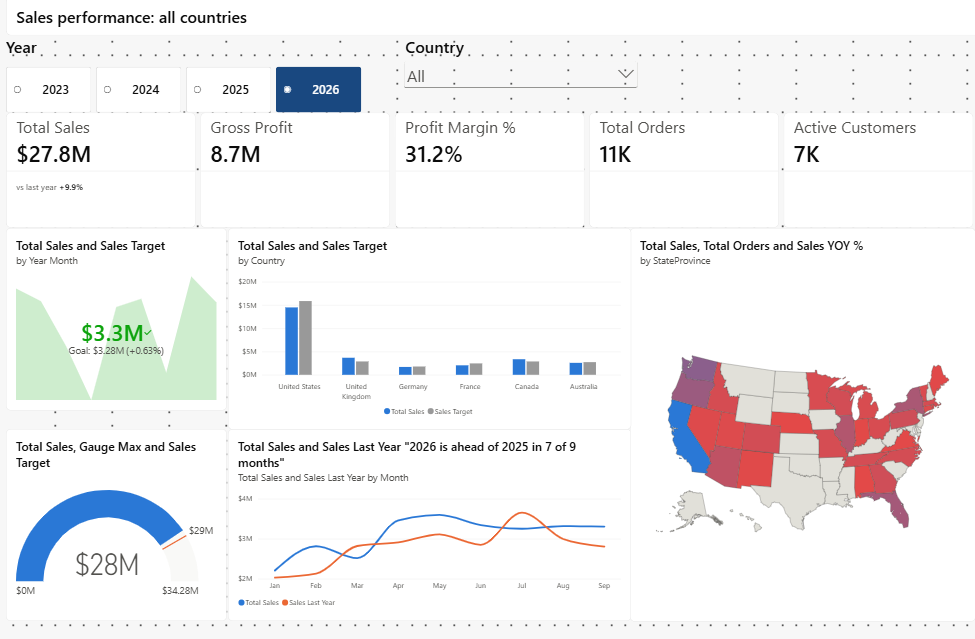

What the dashboard file says about the page in this screenshot:
{"tool":"powerbi","page":{"name":"Executive Overview","canvas":[1920,1080],"ordinal":0},"visuals":[{"type":"advancedSlicerVisual","fields":{"Values":["Date.Year"]},"box":[16,64,592,128],"z":0},{"type":"slicer","fields":{"Values":["Territories.Country"]},"box":[672,64,400,128],"z":1000},{"type":"cardVisual","fields":{"Data":["_Measures.Page Title"]},"box":[16,0,1904,64],"z":2000},{"type":"cardVisual","fields":{"Data":["_Measures.Total Sales","_Measures.Gross Profit","_Measures.Profit Margin %","_Measures.Total Orders","_Measures.Active Customers"]},"box":[16,192,1616,192],"z":3000},{"type":"kpi","fields":{"Indicator":["_Measures.Total Sales"],"TrendLine":["Date.Year Month"],"Goal":["_Measures.Sales Target"]},"box":[16,384,464,144],"z":4000},{"type":"gauge","fields":{"Y":["_Measures.Total Sales"],"MaxValue":["_Measures.Gauge Max"],"TargetValue":["_Measures.Sales Target"]},"box":[16,528,464,240],"z":5000},{"type":"lineChart","title":"Total Sales and Sales Last Year \"2026 is ahead of 2025 in 7 of 9 months\"","fields":{"Category":["Date.Month"],"Y":["_Measures.Total Sales","_Measures.Sales Last Year"]},"box":[16,776,464,304],"z":6000},{"type":"shapeMap","fields":{"Category":["Customers.StateProvince"],"Value":["_Measures.Total Sales"]},"box":[1176,384,744,696],"z":7000},{"type":"clusteredColumnChart","fields":{"Category":["Territories.Sales Geography.Country","Territories.Sales Geography.Group","Territories.Sales Geography.Region"],"Y":["_Measures.Total Sales","_Measures.Sales Target"]},"box":[480,384,720,696],"z":8000}]}

Visuals, with their boxes on the page's 1920x1080 design canvas (x1, y1, x2, y2). These are canvas units, not pixel positions in the 975x639 screenshot, which may show the page scaled, cropped or inside an application window:
advancedSlicerVisual - Date.Year: region(16, 64, 608, 192)
slicer - Territories.Country: region(672, 64, 1072, 192)
cardVisual - _Measures.Page Title: region(16, 0, 1920, 64)
cardVisual - _Measures.Total Sales x _Measures.Gross Profit: region(16, 192, 1632, 384)
kpi - _Measures.Total Sales x Date.Year Month: region(16, 384, 480, 528)
gauge - _Measures.Total Sales x _Measures.Gauge Max: region(16, 528, 480, 768)
"Total Sales and Sales Last Year "2026 is ahead of 2025 in 7 of 9 months"" lineChart: region(16, 776, 480, 1080)
shapeMap - Customers.StateProvince x _Measures.Total Sales: region(1176, 384, 1920, 1080)
clusteredColumnChart - Territories.Sales Geography.Country x Territories.Sales Geography.Group: region(480, 384, 1200, 1080)
